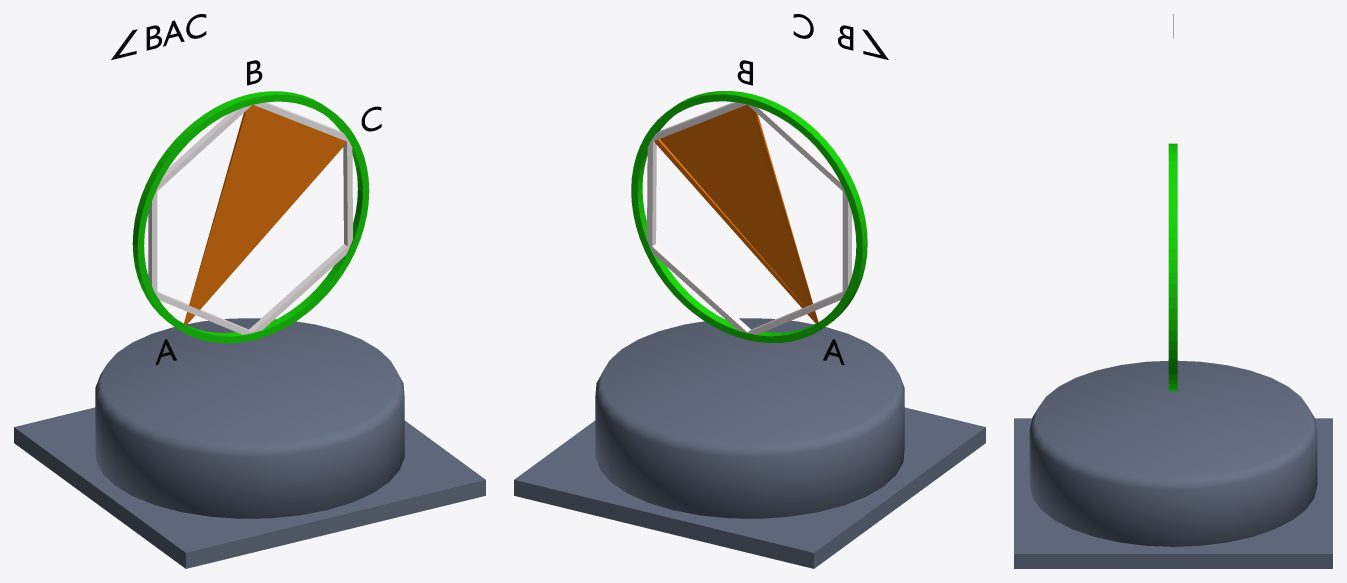
3 renders of one model, left to right at view 1: azimuth 30°, elevation 25°; view 2: azimuth 150°, elevation 25°; view 3: azimuth 270°, elevation 25°, orthographic. The views are drawn at different scales.
Parts seen in each view (by area): view 1: подставка, улг мадафака, круг мадафака, шестиугольник, Text; view 2: подставка, улг мадафака, круг мадафака, шестиугольник; view 3: подставка, круг мадафака.
Boxes of the visible parts, x1,y1,x2,y2 form: подставка: (14,318,485,568); улг мадафака: (184,105,346,325); круг мадафака: (132,91,369,343); шестиугольник: (148,102,352,334); Text: (146,14,206,50); подставка: (514,318,985,568); улг мадафака: (654,104,818,323); круг мадафака: (631,91,867,343); шестиугольник: (647,102,851,334); подставка: (1014,360,1332,568); круг мадафака: (1168,143,1177,391).
Bounding box in the file's own units: 9.15 × 13.64 × 9.09.
